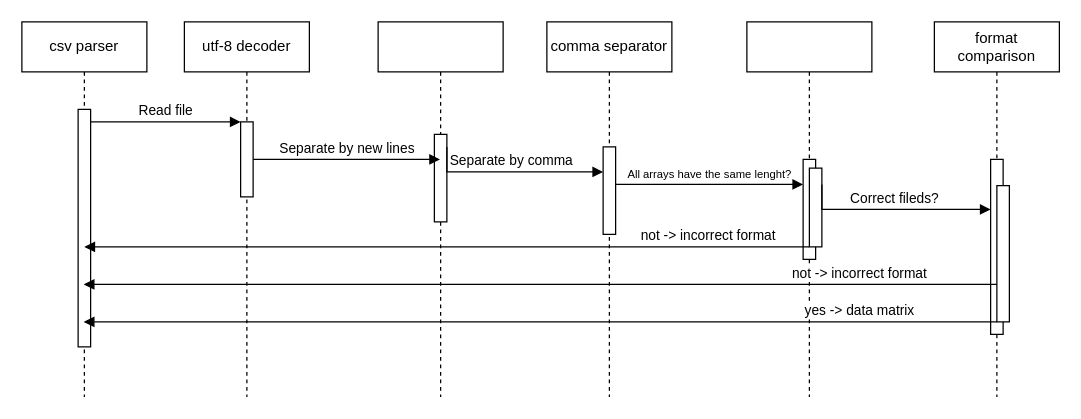
This 1081x419 diagram has some shape labels left out. The shapes that lost their labels are listed below. From the top down, each one's box as (x1, y1, x2, y2) in pixels, then its label:
(377, 21, 503, 397): new line separator
(746, 21, 872, 397): array comparison
